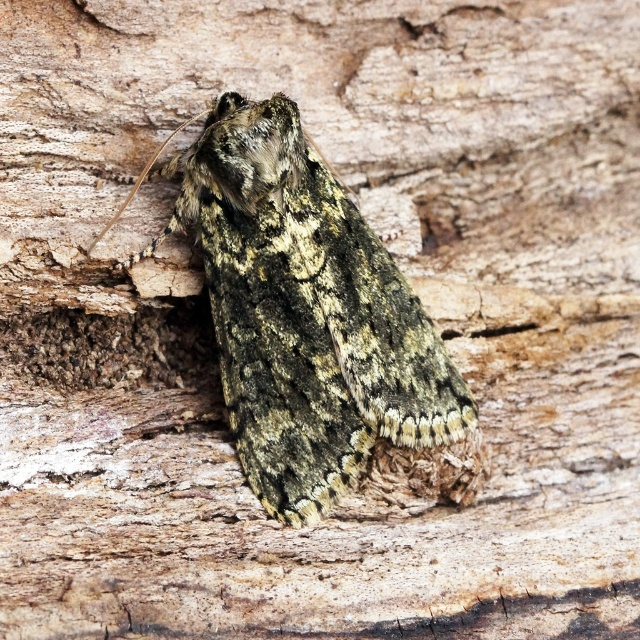Moths and butterflies: (82, 90, 486, 537)
